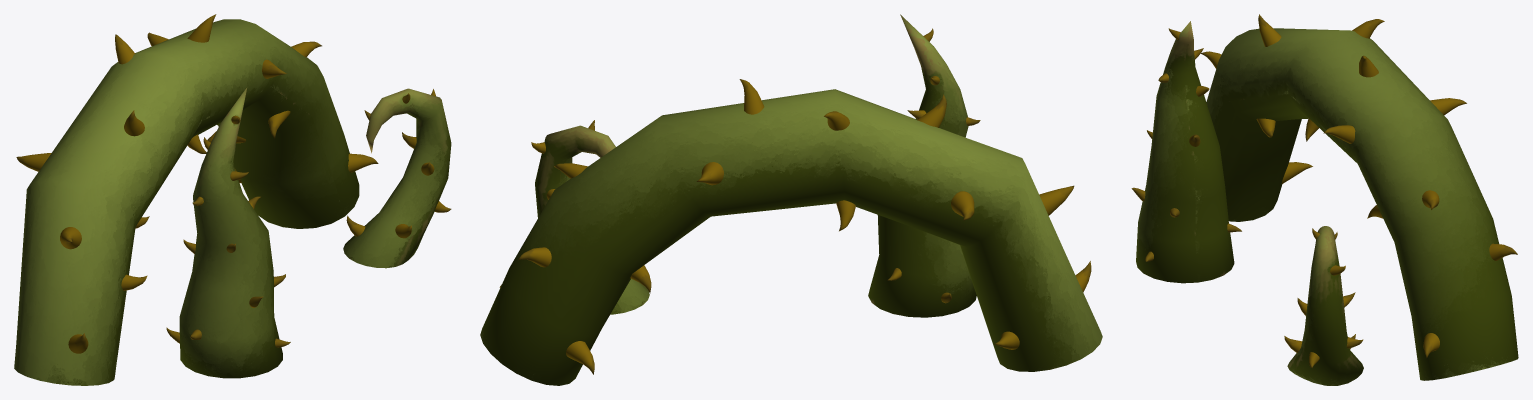
File: thorns.fbx
The picture shows the model from 3 angles, left to right: view 1: azimuth 30°, elevation 25°; view 2: azimuth 150°, elevation 25°; view 3: azimuth 270°, elevation 25°; orthographic projection. The views are drawn at different scales.
Visible parts, largest first — view 1: DeathThorns_01; view 2: DeathThorns_01; view 3: DeathThorns_01.
Boxes of the visible parts, x1=… form: DeathThorns_01: x1=14, y1=14, x2=451, y2=385; DeathThorns_01: x1=480, y1=14, x2=1102, y2=385; DeathThorns_01: x1=1131, y1=14, x2=1518, y2=385.
Size of the model in its own units: 5.3 by 2.98 by 3.91.
1 material, 1 textured.
